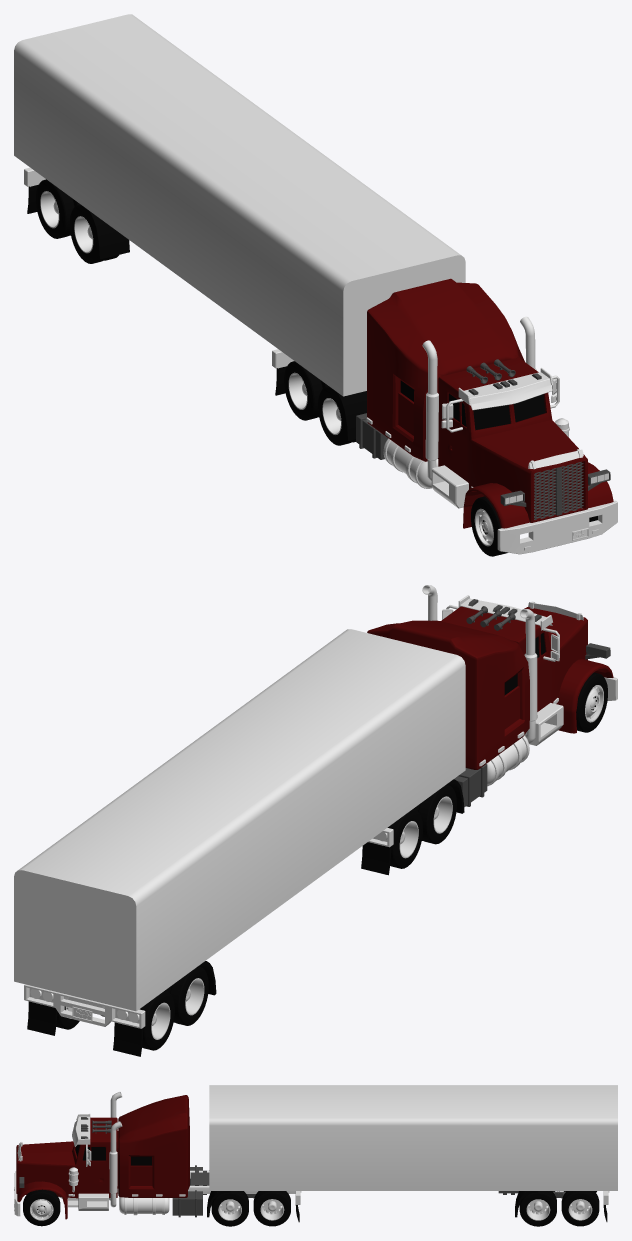
Rendered from Truck.fbx.
The picture shows the model from 3 angles, top to bottom: view 1: azimuth 30°, elevation 25°; view 2: azimuth 150°, elevation 25°; view 3: azimuth 270°, elevation 25°; orthographic projection. The views are drawn at different scales.
Visible parts, largest first — view 1: Container, Semi, Rear Tire Visual.003, Rear Tire Visual.007, Front Tire Visual.001, Rear Tire Visual.006, Rear Tire Visual.002; view 2: Container, Semi, Rear Tire Visual.006, Rear Tire Visual.002, Rear Tire Visual.003, Rear Tire Visual.007, Front Tire Visual.001; view 3: Container, Semi, Rear Tire Visual.005, Rear Tire Visual.001, Front Tire Visual, Rear Tire Visual, Rear Tire Visual.004.
Part boxes in pixels (bbox=[...]): Container: bbox=[14, 14, 465, 396]; Semi: bbox=[272, 278, 617, 554]; Rear Tire Visual.003: bbox=[284, 361, 328, 420]; Rear Tire Visual.007: bbox=[36, 179, 80, 238]; Front Tire Visual.001: bbox=[471, 496, 507, 556]; Rear Tire Visual.006: bbox=[70, 204, 118, 263]; Rear Tire Visual.002: bbox=[318, 386, 355, 445]; Container: bbox=[14, 629, 465, 1056]; Semi: bbox=[361, 585, 617, 875]; Rear Tire Visual.006: bbox=[165, 967, 208, 1025]; Rear Tire Visual.002: bbox=[413, 785, 456, 844]; Rear Tire Visual.003: bbox=[387, 809, 422, 868]; Rear Tire Visual.007: bbox=[139, 991, 174, 1050]; Front Tire Visual.001: bbox=[576, 672, 607, 732]; Container: bbox=[209, 1085, 617, 1221]; Semi: bbox=[14, 1092, 301, 1222]; Rear Tire Visual.005: bbox=[561, 1191, 599, 1226]; Rear Tire Visual.001: bbox=[253, 1191, 290, 1226]; Front Tire Visual: bbox=[23, 1189, 60, 1226]; Rear Tire Visual: bbox=[211, 1191, 248, 1226]; Rear Tire Visual.004: bbox=[519, 1191, 556, 1226].
Size of the model in its own units: 889 by 1211 by 6119.
